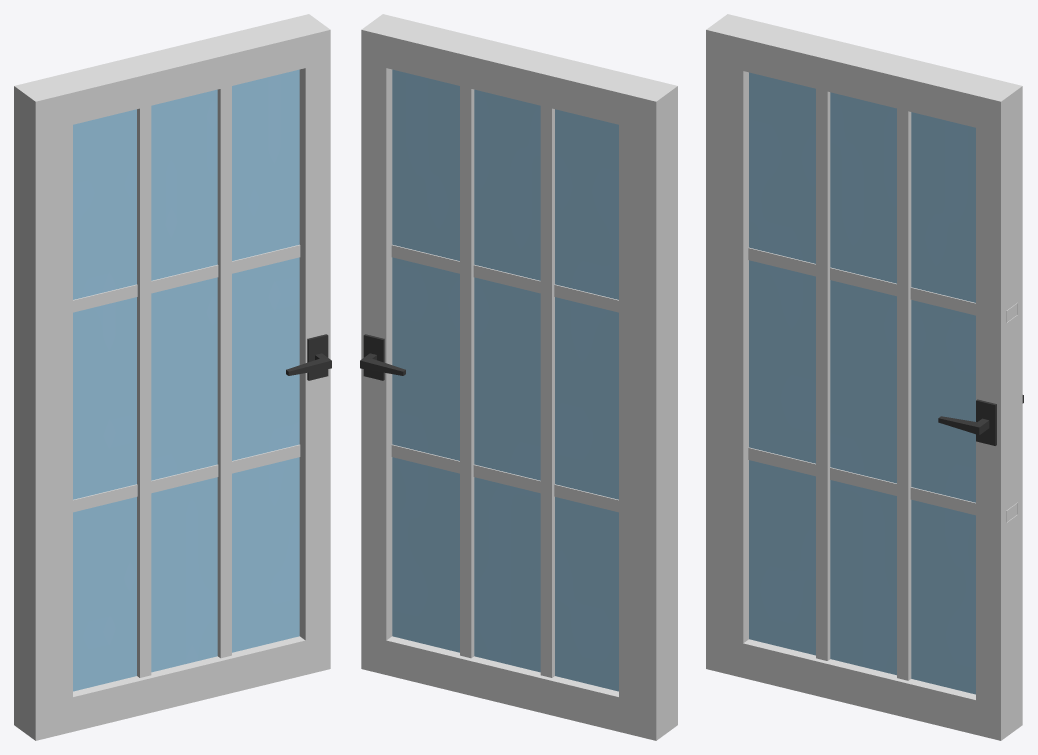
The model's file is PROTO_door.glb.
3 views of the same model, side by side, from view 1: azimuth 30°, elevation 25°; view 2: azimuth 150°, elevation 25°; view 3: azimuth 330°, elevation 25° (orthographic).
Visible parts, largest first — view 1: door_001; view 2: door_001; view 3: door_001.
Boxes of the visible parts, left/top/right/bottom form: door_001: left=14, top=14, right=331, bottom=740; door_001: left=360, top=14, right=677, bottom=740; door_001: left=706, top=14, right=1023, bottom=740.
Size of the model in its own units: 1.65 by 3.4 by 0.4289.
1 material, 1 textured.
